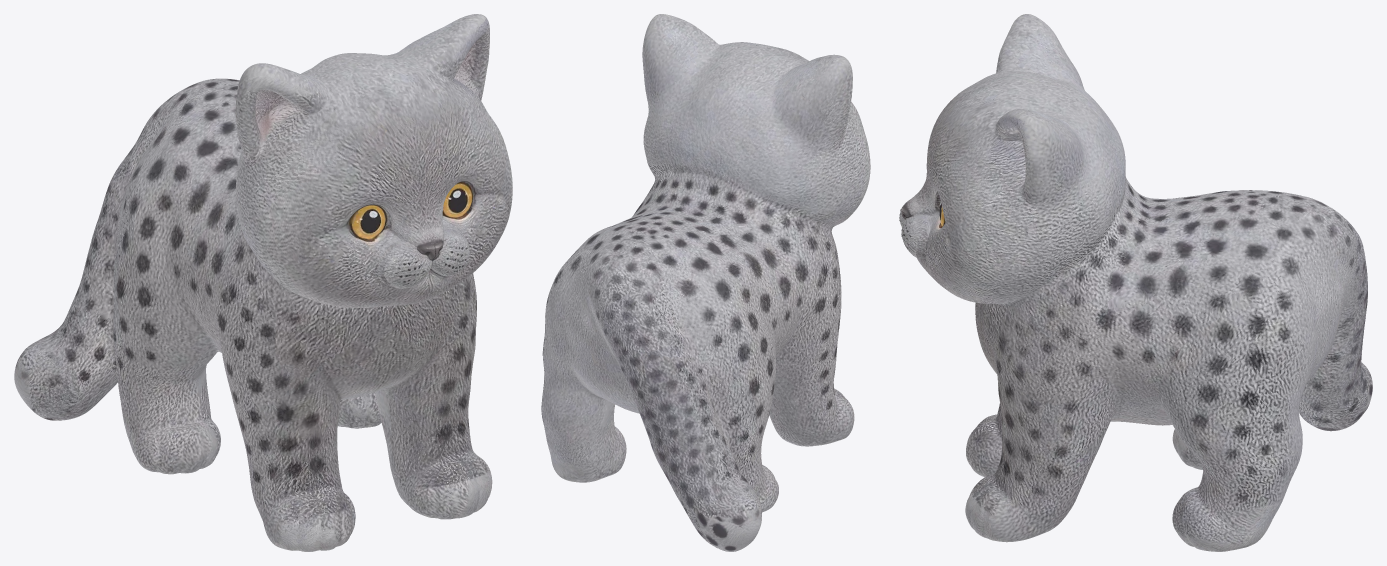
Rendered from meshy-britishspotted.glb.
3 views of the same model, side by side, from view 1: azimuth 30°, elevation 25°; view 2: azimuth 150°, elevation 25°; view 3: azimuth 270°, elevation 25° (orthographic). The views are drawn at different scales.
Parts seen in each view (by area): view 1: Mesh_0; view 2: Mesh_0; view 3: Mesh_0.
Boxes of the visible parts, left/top/right/bottom form: Mesh_0: left=14, top=14, right=512, bottom=551; Mesh_0: left=541, top=14, right=870, bottom=551; Mesh_0: left=899, top=14, right=1372, bottom=551.
Size of the model in its own units: 1.3 by 1.9 by 1.88.
1 material, 1 textured.
